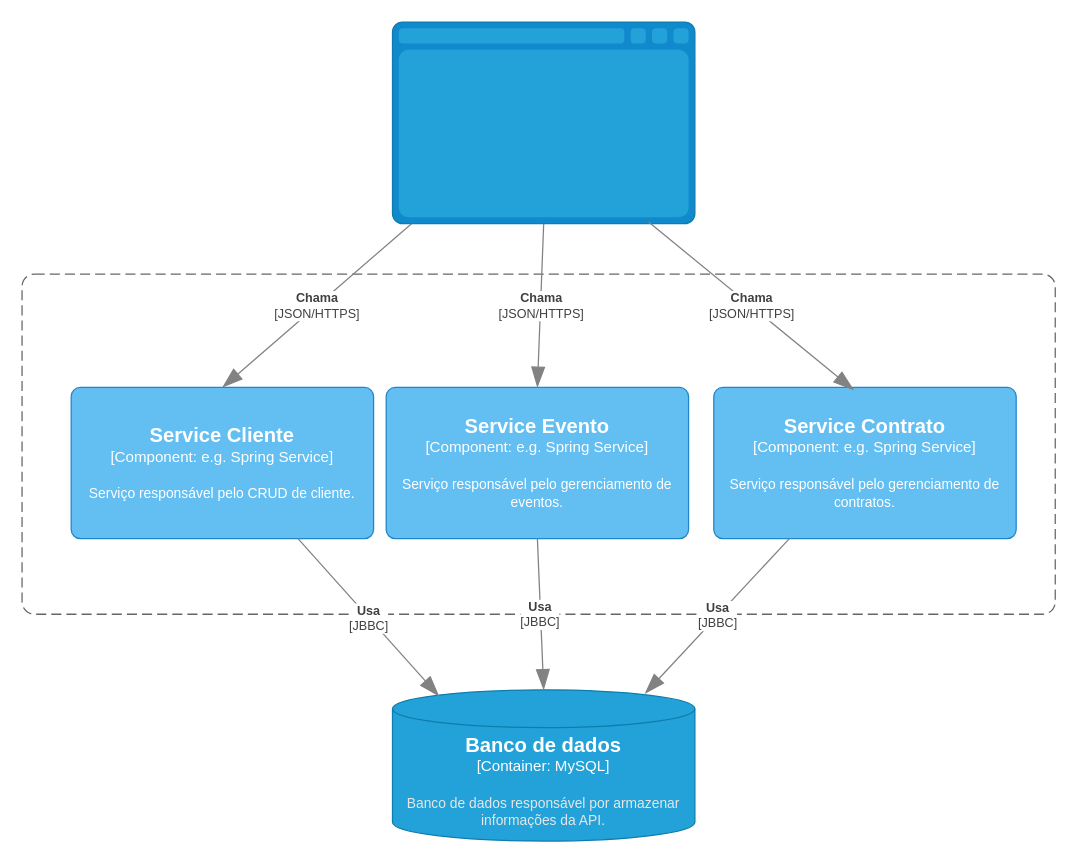
Image size: 1077x863. Some labels were removed from this diagram. Here are the shapes that lost their labels. From the top down, the box of each, then its label:
(391, 21, 695, 224): Encantus Web [Container: Angular] Front-end do Sistema Encantus.
(21, 273, 1055, 614): Encantus API [Api de gerenciamento de eventos.]
